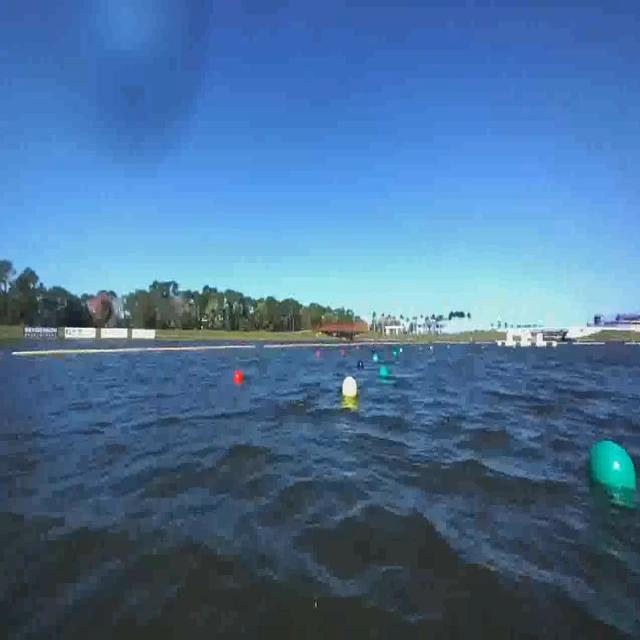black-buoy: (358, 361, 363, 371)
green-buoy: (578, 435, 640, 522), (380, 364, 390, 378)
red-buoy: (235, 371, 245, 386)
yellow-buoy: (343, 375, 359, 399)
